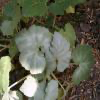Squash Powdery mildew leaf: (16, 26, 54, 73), (46, 29, 71, 73), (73, 40, 95, 85), (21, 76, 43, 99), (46, 79, 61, 99)
